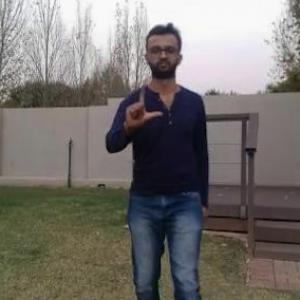land_hand: (118, 76, 163, 129)
